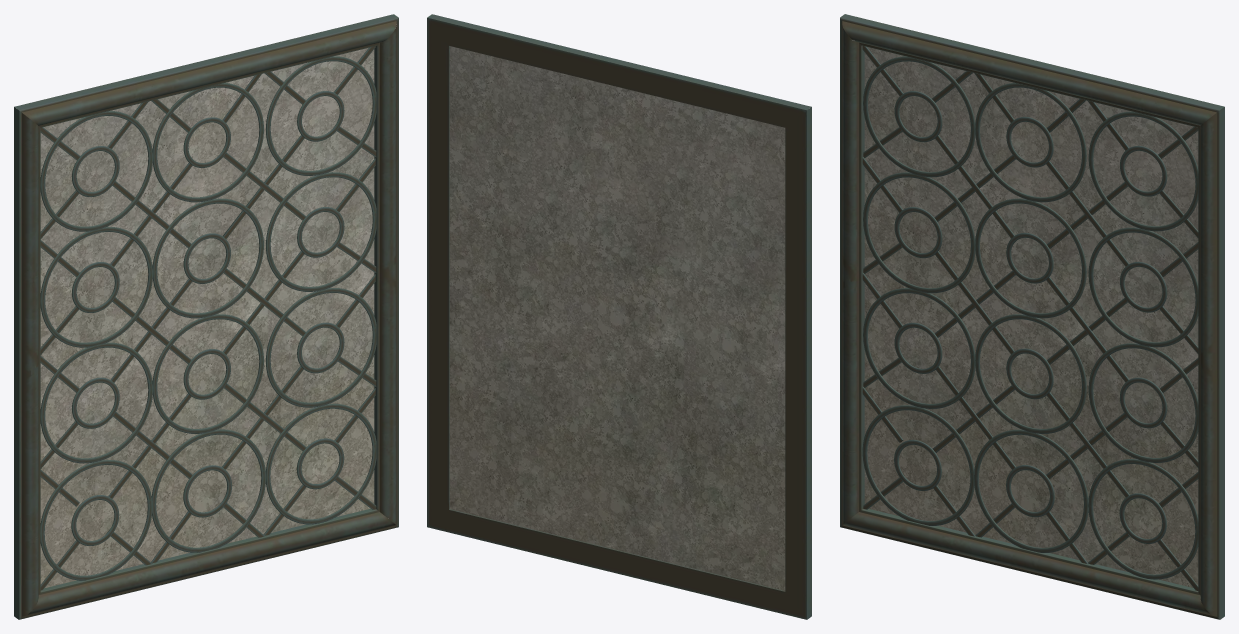
3 views of the same model, side by side, from view 1: azimuth 30°, elevation 25°; view 2: azimuth 150°, elevation 25°; view 3: azimuth 330°, elevation 25° (orthographic).
Visible parts, largest first — view 1: RootNode; view 2: RootNode; view 3: RootNode.
Boxes of the visible parts, left/top/right/bottom form: RootNode: left=14, top=14, right=398, bottom=619; RootNode: left=427, top=14, right=811, bottom=619; RootNode: left=840, top=14, right=1224, bottom=619.
Size of the model in its own units: 0.7666 by 0.9828 by 0.0296.
Materials: 1 (1 with a texture image).
